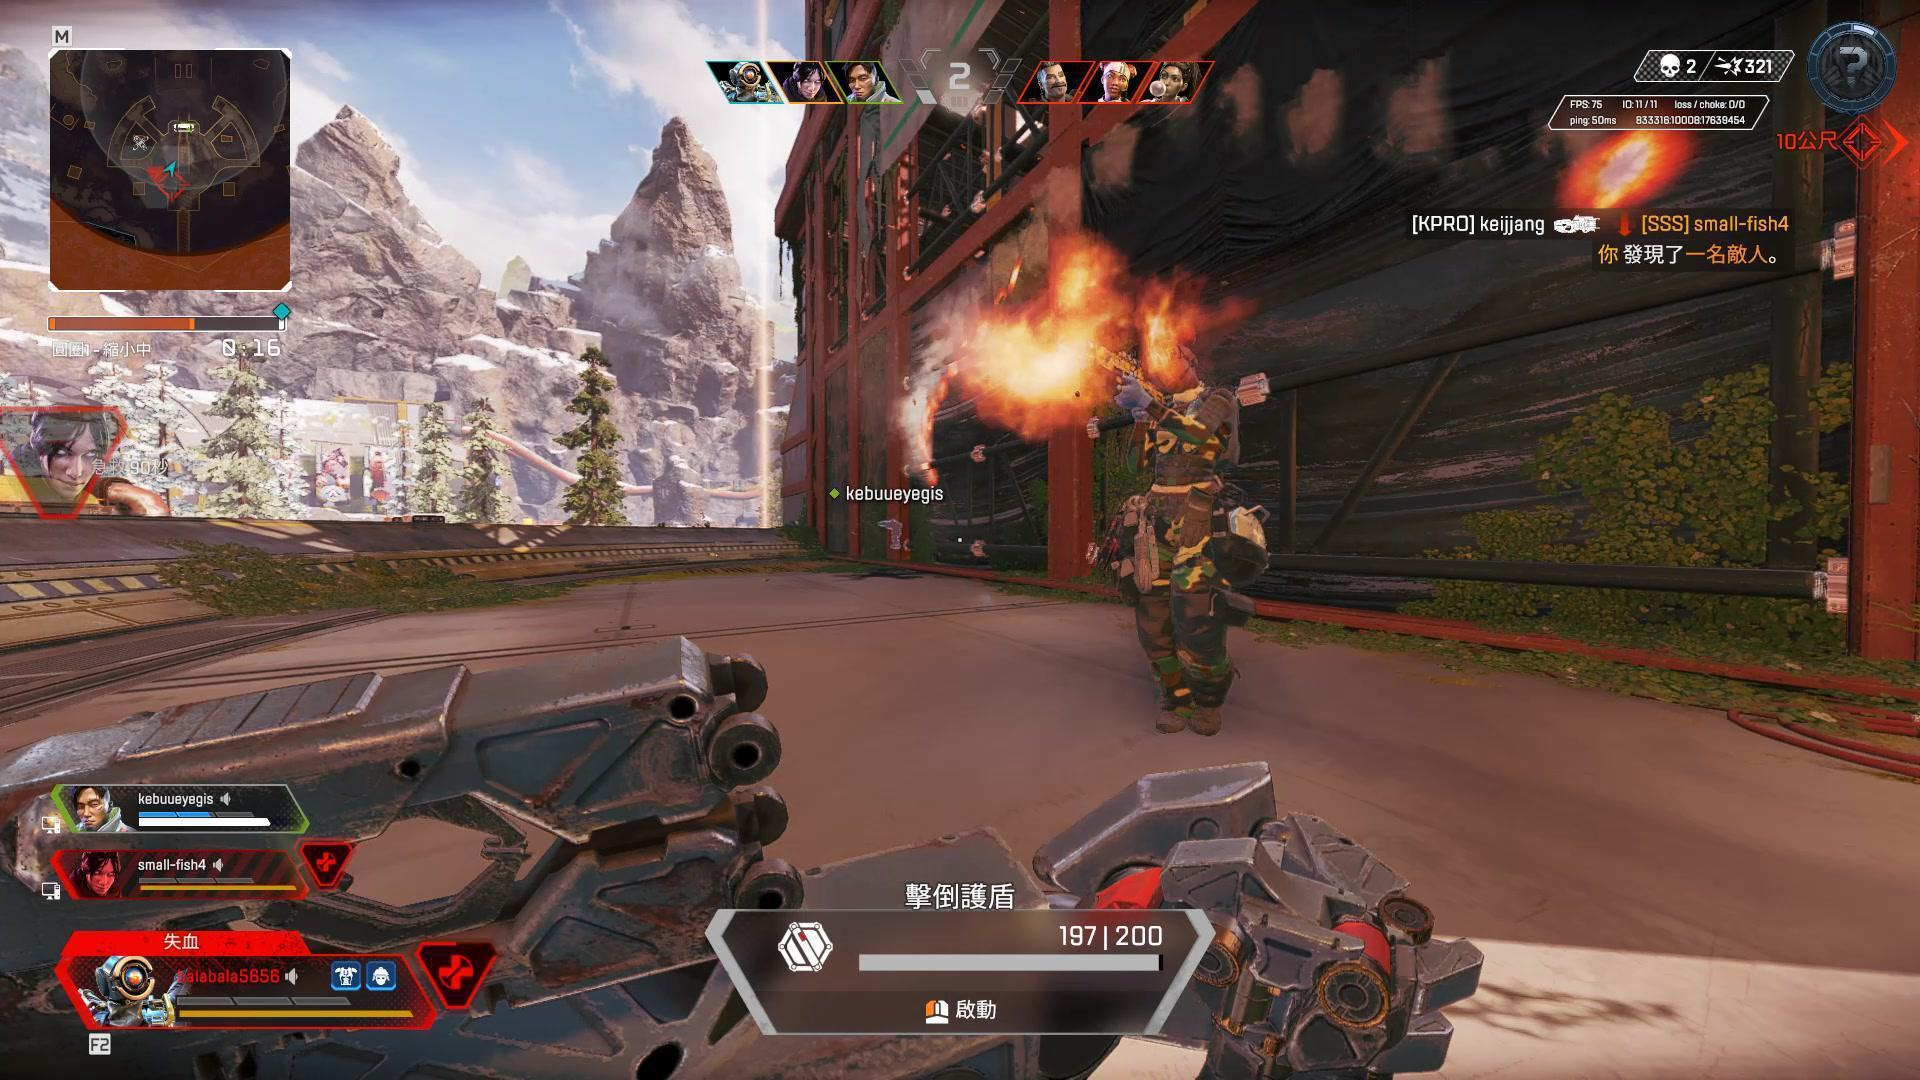avatar: (1102, 312, 1274, 742)
object: (952, 228, 1138, 441)
